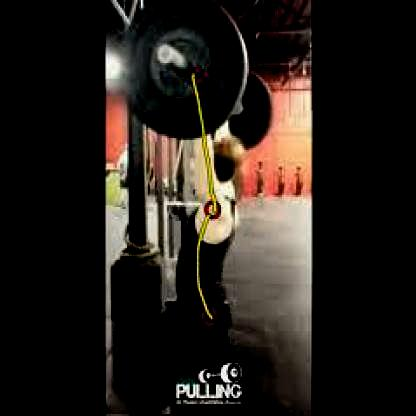Barbell: (157, 45, 177, 67)
